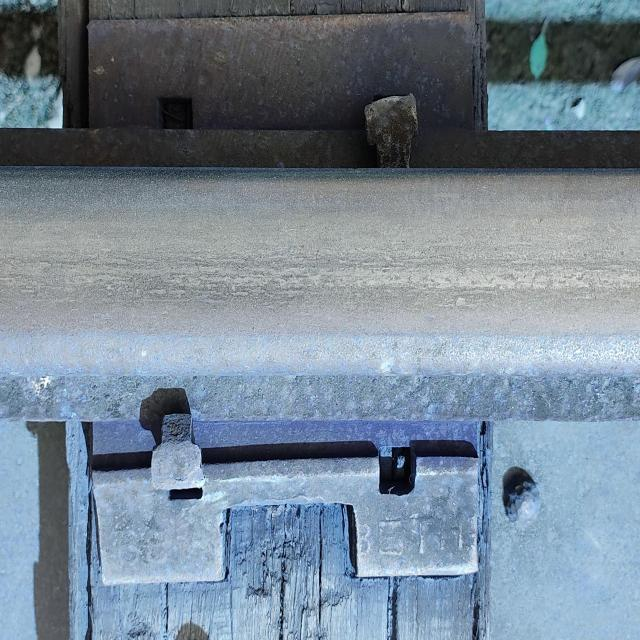Good Fasteners: (365, 93, 418, 168), (151, 440, 204, 489)
Missing Dogscrew: (159, 97, 192, 129), (397, 455, 405, 469)
